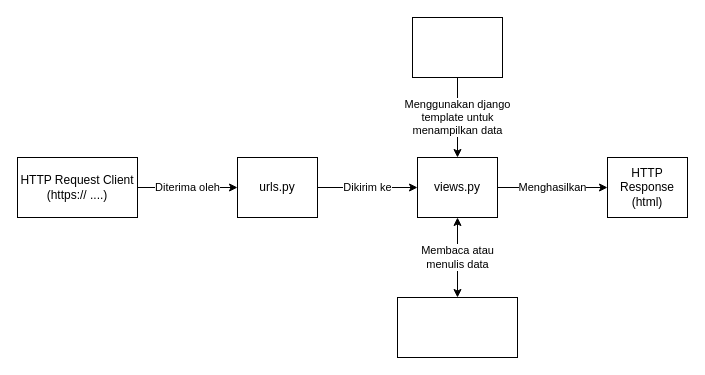
The diagram is 705 pixels wide and 375 high, and some of its shapes have lost their labels. Each missing label, with the centre of its shape:
models.py: the point at 457,327
templates.html: the point at 457,47
